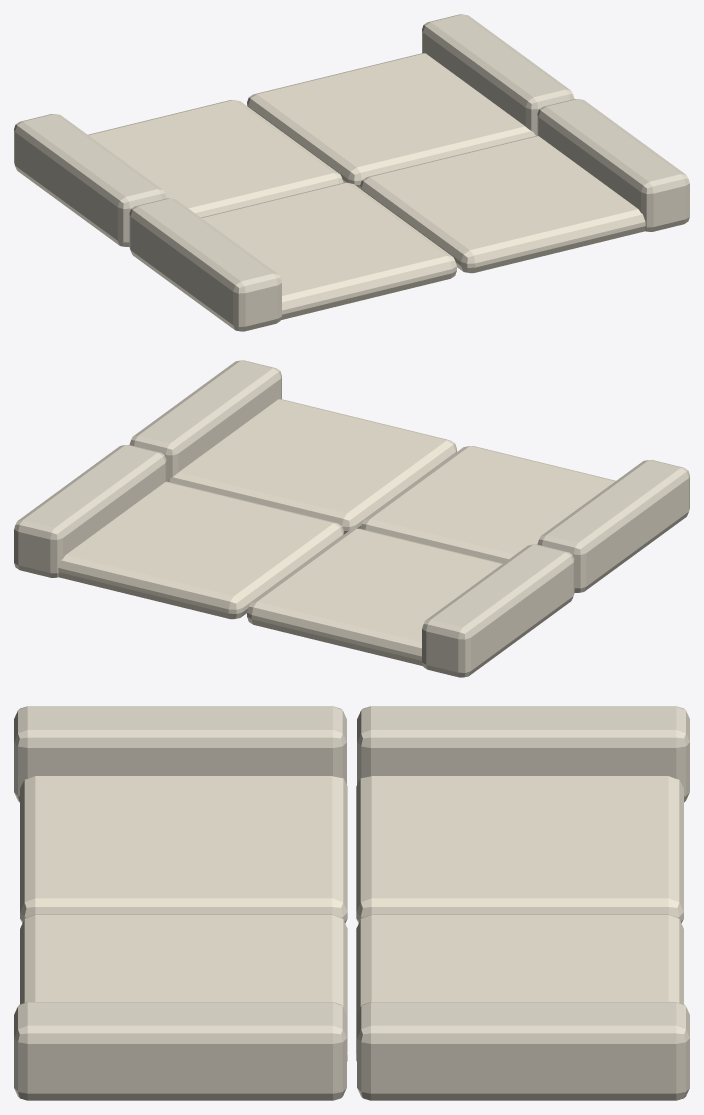
The model's file is Test_CheonRef_PathStraight.fbx.
The picture shows the model from 3 angles, top to bottom: view 1: azimuth 30°, elevation 25°; view 2: azimuth 150°, elevation 25°; view 3: azimuth 270°, elevation 25°; orthographic projection. The views are drawn at different scales.
Parts seen in each view (by area): view 1: BroadPathSlab.010, BroadPathSlab.011, BroadPathSlab.008, BroadPathSlab.009, LowPathEdging.002, LowPathEdging.003, LowPathEdging.004, LowPathEdging.005; view 2: BroadPathSlab.011, BroadPathSlab.010, BroadPathSlab.009, BroadPathSlab.008, LowPathEdging.003, LowPathEdging.002, LowPathEdging.005, LowPathEdging.004; view 3: BroadPathSlab.008, BroadPathSlab.009, LowPathEdging.004, LowPathEdging.005, BroadPathSlab.010, BroadPathSlab.011, LowPathEdging.002, LowPathEdging.003.
Part boxes in pixels (x1=…): BroadPathSlab.010: x1=360, y1=135, x2=645, y2=273; BroadPathSlab.011: x1=247, y1=53, x2=535, y2=188; BroadPathSlab.008: x1=201, y1=182, x2=456, y2=319; BroadPathSlab.009: x1=88, y1=100, x2=343, y2=217; LowPathEdging.002: x1=129, y1=198, x2=281, y2=331; LowPathEdging.003: x1=14, y1=114, x2=166, y2=246; LowPathEdging.004: x1=537, y1=99, x2=689, y2=231; LowPathEdging.005: x1=422, y1=14, x2=574, y2=135; BroadPathSlab.011: x1=58, y1=481, x2=343, y2=619; BroadPathSlab.010: x1=168, y1=399, x2=456, y2=534; BroadPathSlab.009: x1=247, y1=528, x2=502, y2=665; BroadPathSlab.008: x1=360, y1=446, x2=615, y2=563; LowPathEdging.003: x1=422, y1=544, x2=574, y2=677; LowPathEdging.002: x1=537, y1=460, x2=689, y2=592; LowPathEdging.005: x1=14, y1=445, x2=166, y2=577; LowPathEdging.004: x1=129, y1=360, x2=281, y2=481; BroadPathSlab.008: x1=20, y1=776, x2=347, y2=923; BroadPathSlab.009: x1=356, y1=776, x2=683, y2=923; LowPathEdging.004: x1=14, y1=1002, x2=346, y2=1100; LowPathEdging.005: x1=357, y1=1002, x2=689, y2=1100; BroadPathSlab.010: x1=20, y1=914, x2=347, y2=1061; BroadPathSlab.011: x1=356, y1=914, x2=683, y2=1061; LowPathEdging.002: x1=14, y1=706, x2=346, y2=802; LowPathEdging.003: x1=357, y1=706, x2=689, y2=802.
Bounding box in the file's own units: 228 × 24 × 197.
